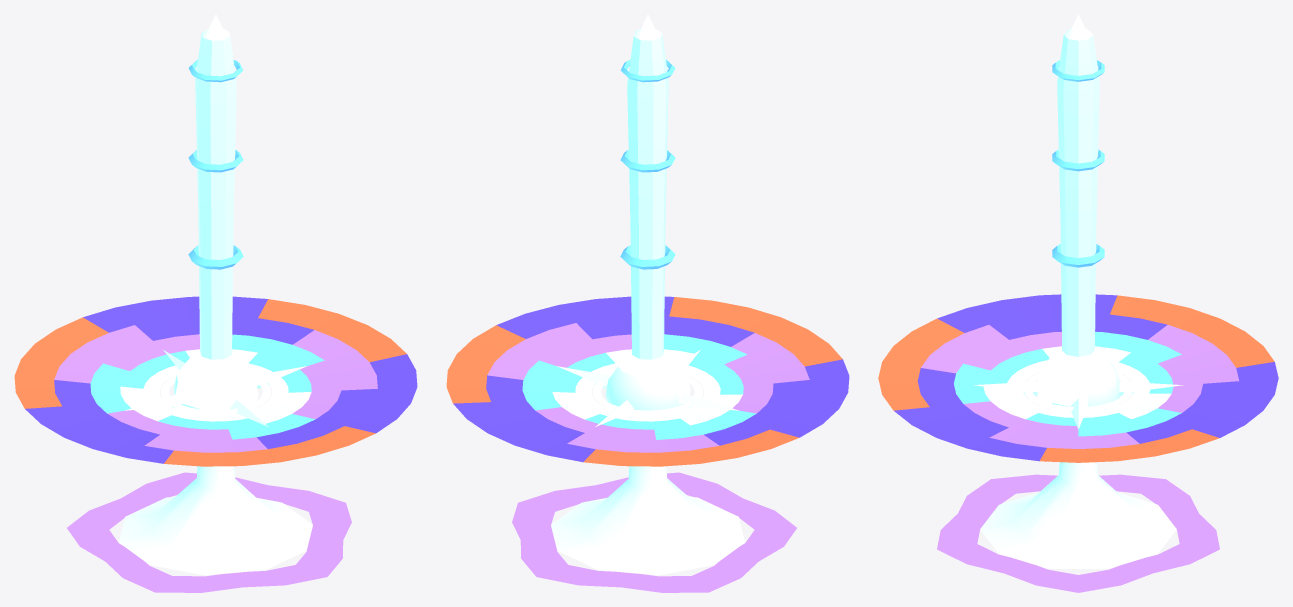
The model's file is quasar.glb.
3 renders of one model, left to right at view 1: azimuth 30°, elevation 25°; view 2: azimuth 150°, elevation 25°; view 3: azimuth 270°, elevation 25°, orthographic.
Visible parts, largest first — view 1: disk, jets, body; view 2: disk, jets, body; view 3: disk, jets, body.
Part boxes in pixels (left/top/right/bottom): disk: left=14, top=296, right=417, bottom=466; jets: left=67, top=14, right=351, bottom=592; body: left=124, top=350, right=307, bottom=426; disk: left=446, top=296, right=849, bottom=466; jets: left=512, top=14, right=796, bottom=592; body: left=556, top=350, right=739, bottom=426; disk: left=878, top=294, right=1278, bottom=462; jets: left=937, top=14, right=1219, bottom=592; body: left=973, top=350, right=1183, bottom=429.
Bounding box in the file's own units: 244 × 347 × 244.
